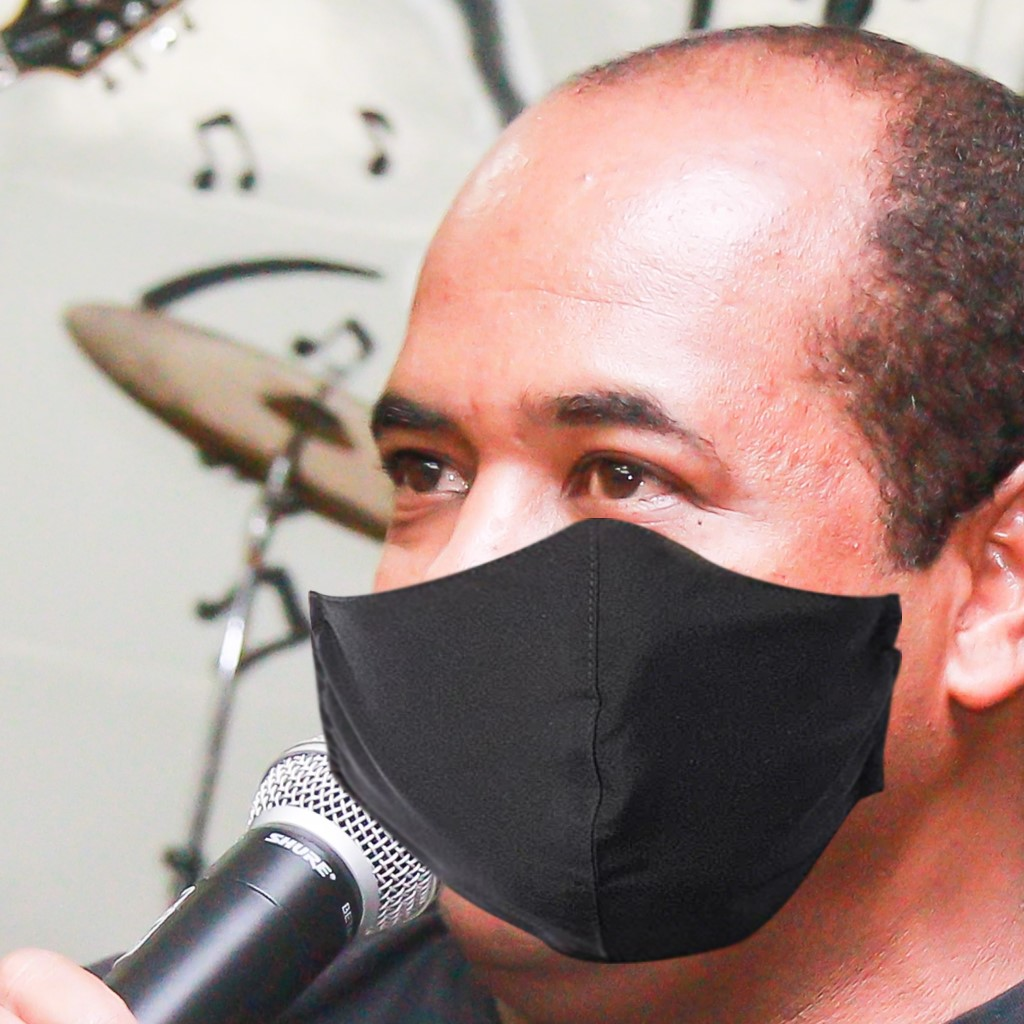con_mascara: (374, 80, 910, 954)
